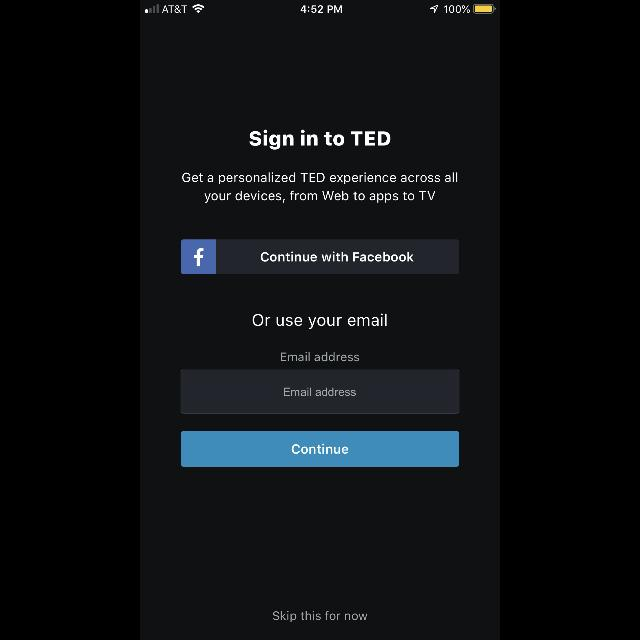input: (181, 370, 459, 414)
text: (182, 172, 458, 204), (250, 130, 390, 150), (253, 314, 387, 328), (273, 612, 367, 622), (281, 352, 359, 362), (284, 388, 356, 396)
textbutton: (181, 432, 459, 466), (181, 240, 459, 274)
uppertaskbar: (140, 0, 500, 14)
